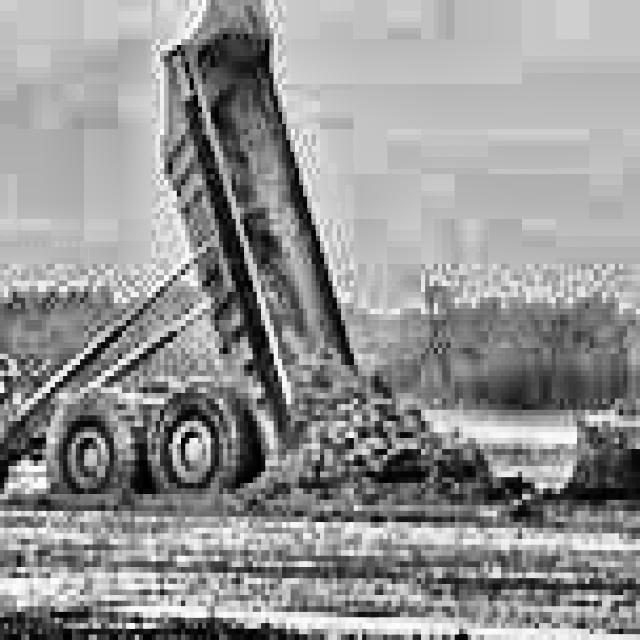buldozerpayloadergrader: (534, 185, 640, 550)
dump_truck: (0, 0, 383, 516)
